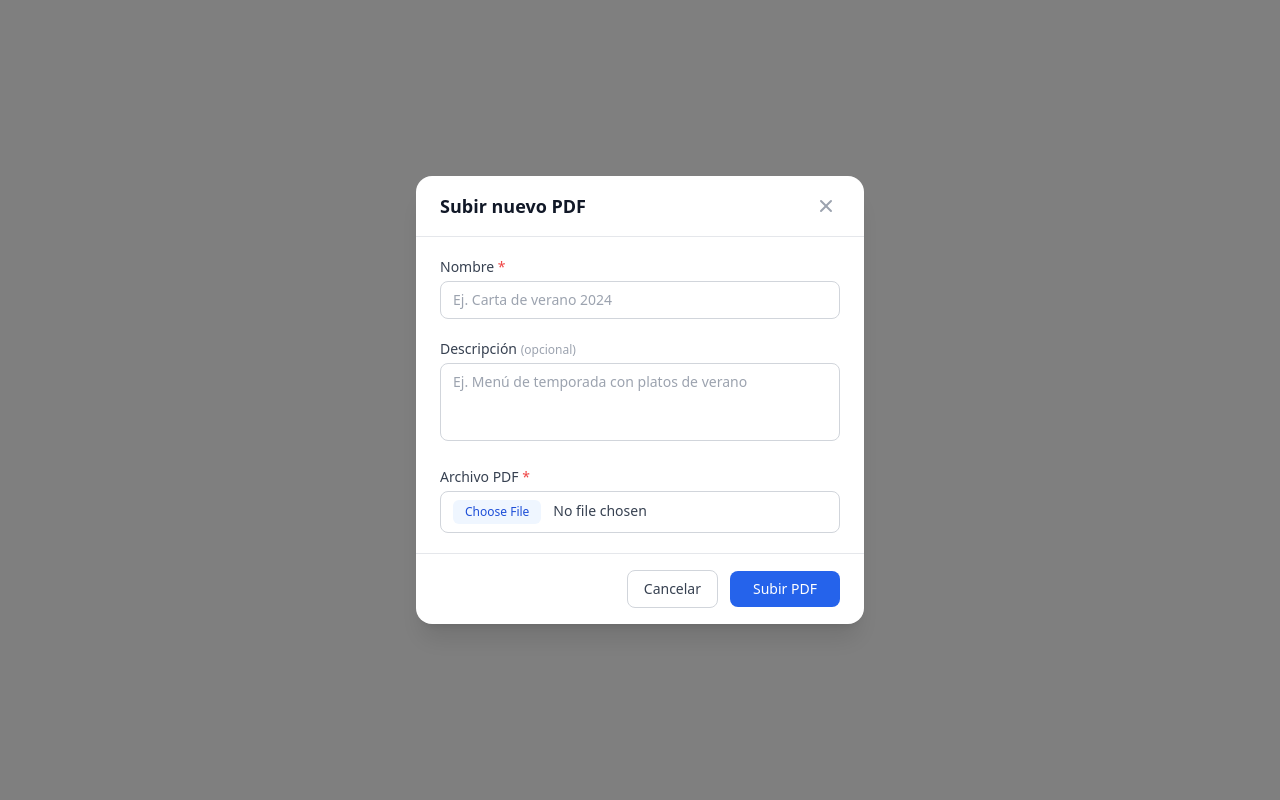
Test: UploadModal — errores de validación al enviar › muestra error de nombre cuando se envía el formulario sin nombre
The image size is (1280, 800).
Enviar sin rellenar nada
What coordinates should you click on to do the following:
click the button "Subir PDF"
I would click on:
 (785, 589)
Its box is [730,571,840,607].
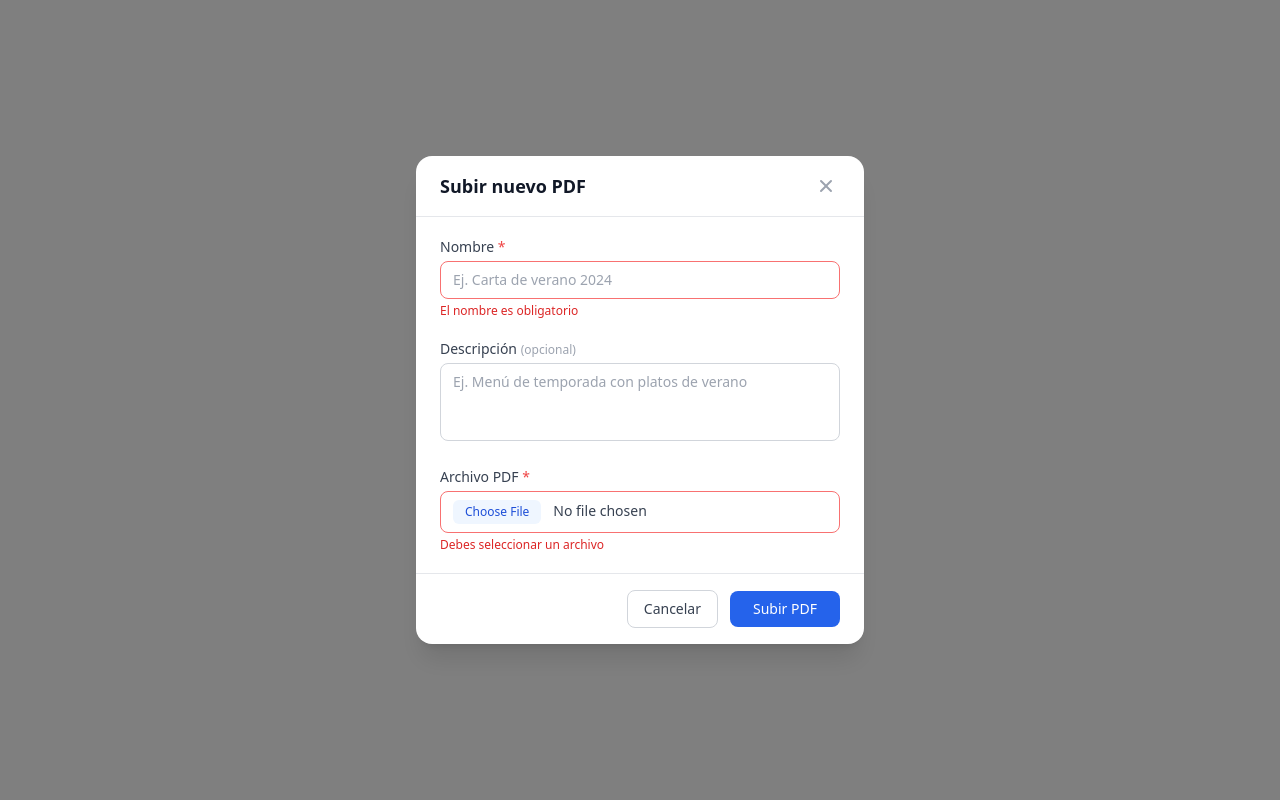
Result: the text "El nombre es obligatorio" is shown at [440,302,578,319]
